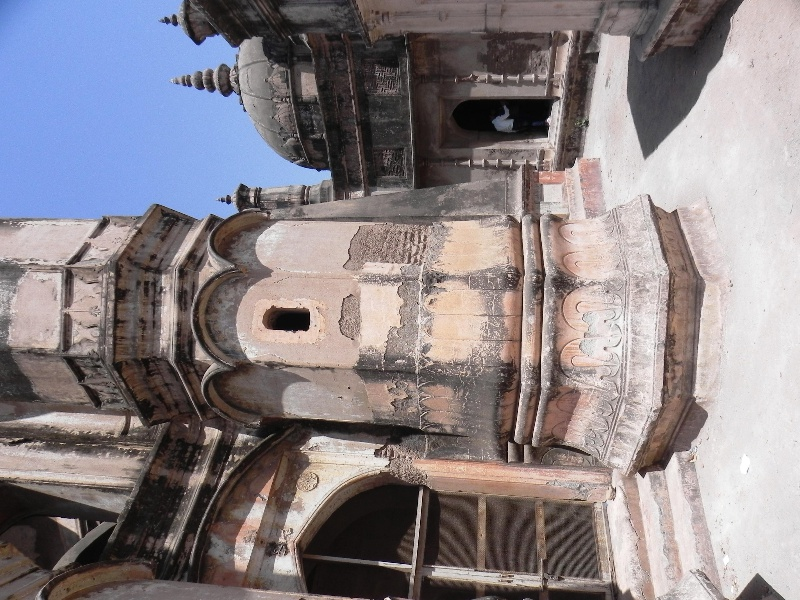Spalling: (381, 267, 424, 414), (338, 220, 435, 266), (364, 432, 438, 489), (334, 290, 363, 340)
